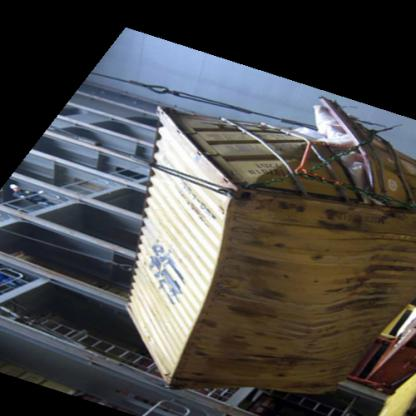Damage: (294, 86, 382, 212), (210, 232, 290, 332), (329, 256, 399, 336)
